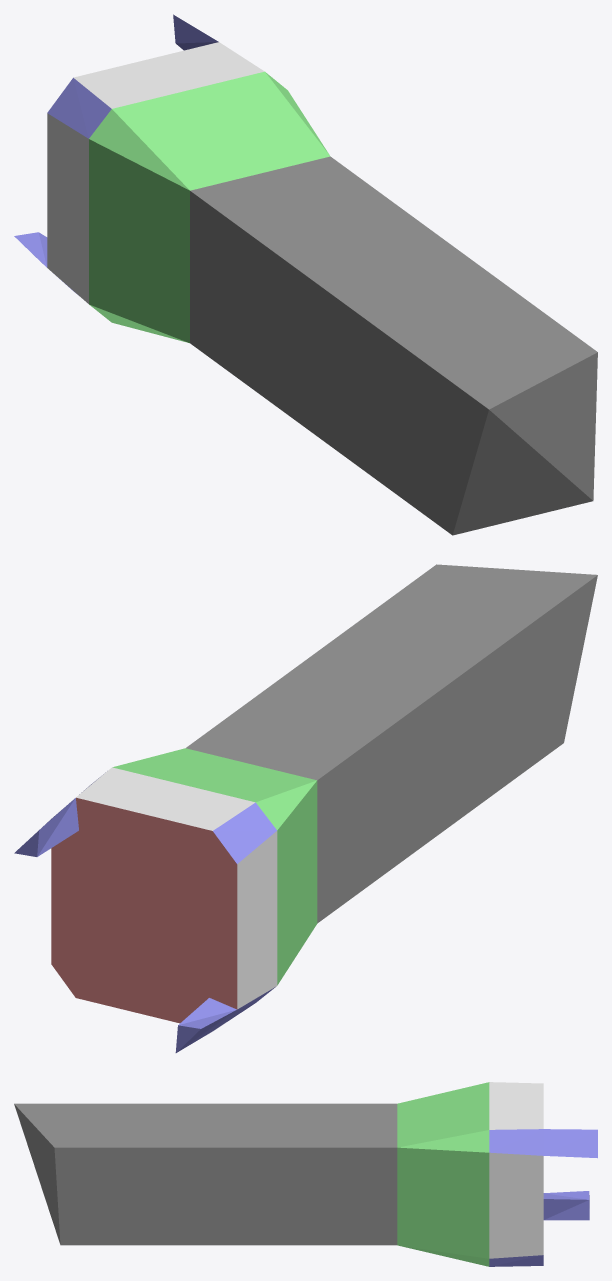
File: world_obj19.gltf
3 views of the same model, one above another, from view 1: azimuth 30°, elevation 25°; view 2: azimuth 150°, elevation 25°; view 3: azimuth 270°, elevation 25° (orthographic). The views are drawn at different scales.
Visible parts, largest first — view 1: world_obj19; view 2: world_obj19; view 3: world_obj19.
Part boxes in pixels (x1,y1,x2,y2): world_obj19: (14, 14, 597, 535); world_obj19: (14, 564, 597, 1052); world_obj19: (14, 1082, 597, 1266).
Bounding box in the file's own units: 0.3008 × 0.309 × 1.19.
